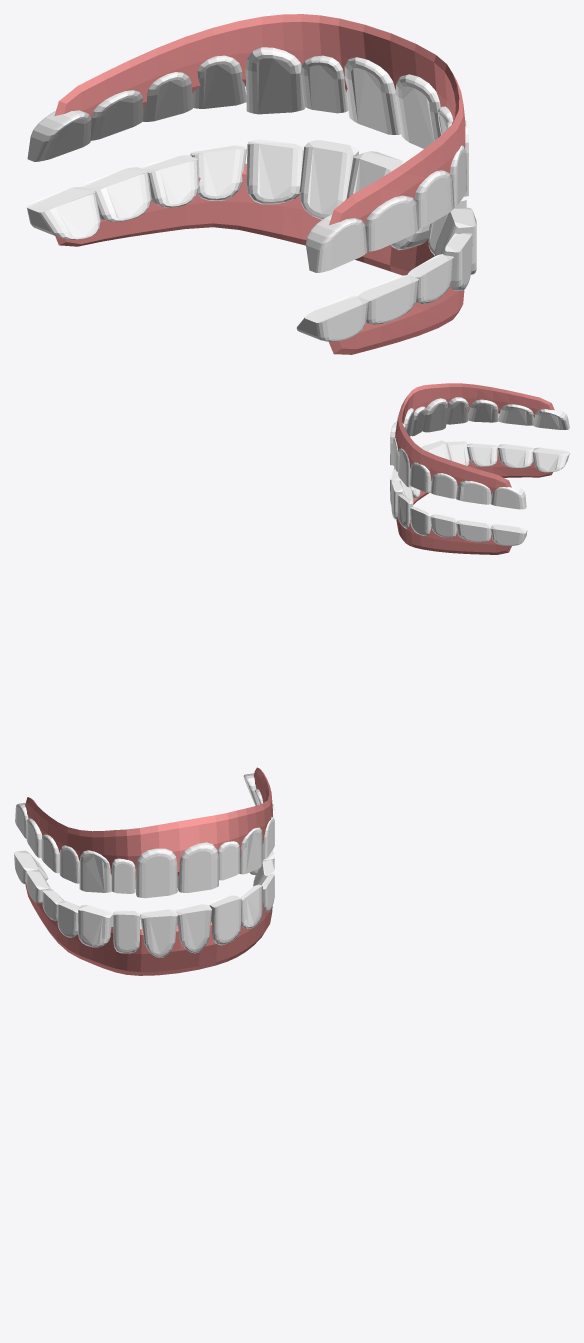
The model's file is marked.gltf.
The picture shows the model from 3 angles, top to bottom: view 1: azimuth 30°, elevation 25°; view 2: azimuth 150°, elevation 25°; view 3: azimuth 270°, elevation 25°; orthographic projection. The views are drawn at different scales.
Visible parts, largest first — view 1: node-0; view 2: node-0; view 3: node-0.
Part boxes in pixels (box(x1,y1,x2,y2)): node-0: box(26, 14, 476, 354); node-0: box(390, 383, 569, 554); node-0: box(14, 767, 274, 975).
Size of the model in its own units: 1017187 by 707414 by 990530.
